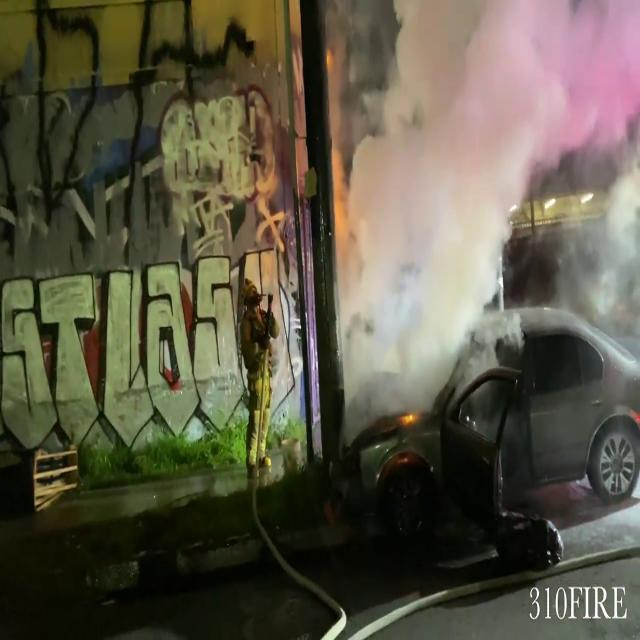Smoke: (337, 0, 640, 399)
